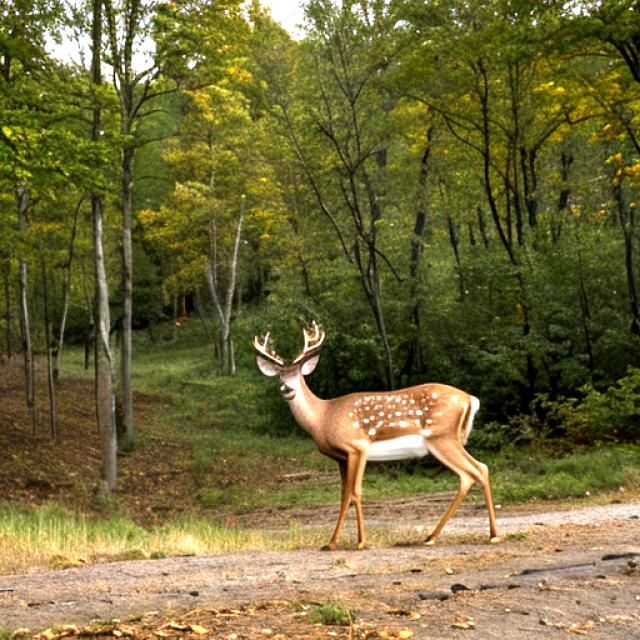deer: (245, 305, 364, 415)
